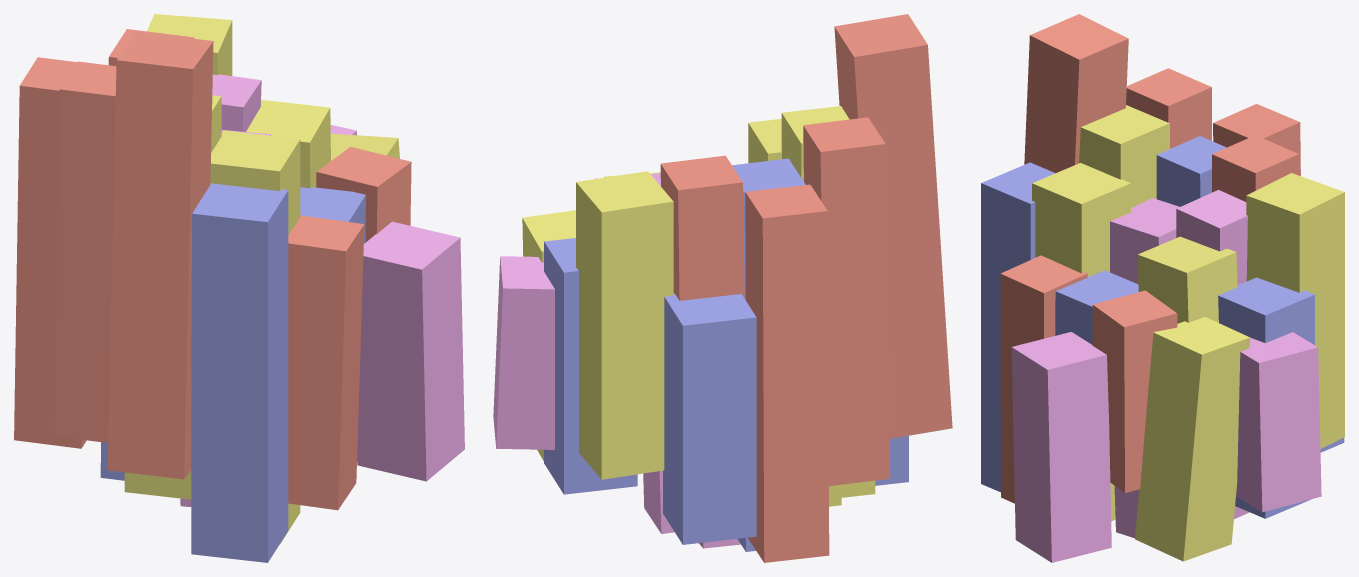
The model's file is building module 4.glb.
3 renders of one model, left to right at view 1: azimuth 30°, elevation 25°; view 2: azimuth 150°, elevation 25°; view 3: azimuth 270°, elevation 25°, orthographic. The views are drawn at different scales.
Visible parts, largest first — view 1: bake 4; view 2: bake 4; view 3: bake 4.
Boxes of the visible parts, bbox=[...] form: bake 4: bbox=[14, 14, 464, 562]; bake 4: bbox=[493, 14, 952, 562]; bake 4: bbox=[981, 14, 1344, 562].
Bounding box in the file's own units: 2.13 × 2.75 × 2.03.
Materials: 1 (1 with a texture image).
